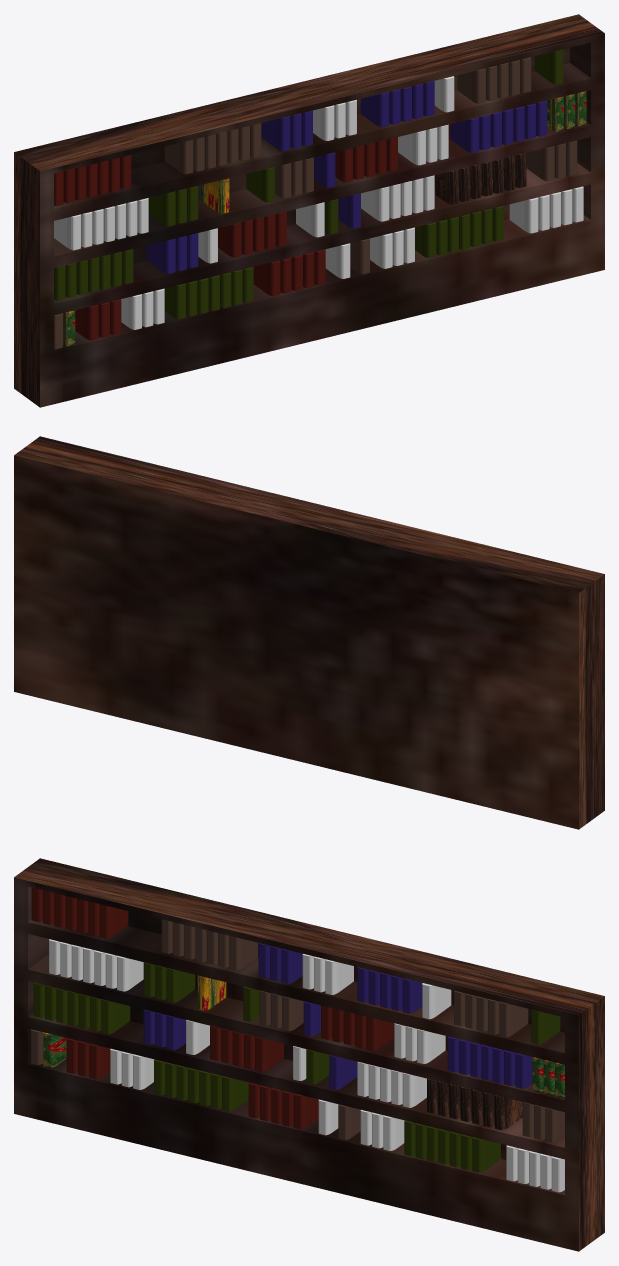
Rendered from Biblioteca.fbx.
3 views of the same model, one above another, from view 1: azimuth 30°, elevation 25°; view 2: azimuth 150°, elevation 25°; view 3: azimuth 330°, elevation 25° (orthographic).
Parts seen in each view (by area): view 1: Blblioteca completa; view 2: Blblioteca completa; view 3: Blblioteca completa.
Part boxes in pixels (x1=…): Blblioteca completa: x1=14, y1=14, x2=604, y2=407; Blblioteca completa: x1=14, y1=436, x2=604, y2=829; Blblioteca completa: x1=14, y1=858, x2=604, y2=1251.
Size of the model in its own units: 500 by 200 by 40.
